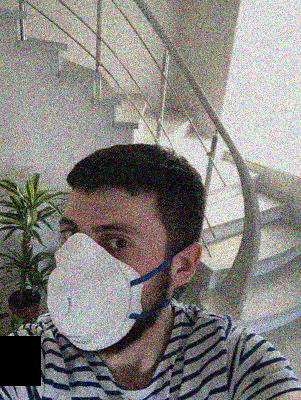with_mask: (47, 210, 157, 359)
